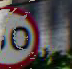Speed limit: (0, 4, 39, 68)
